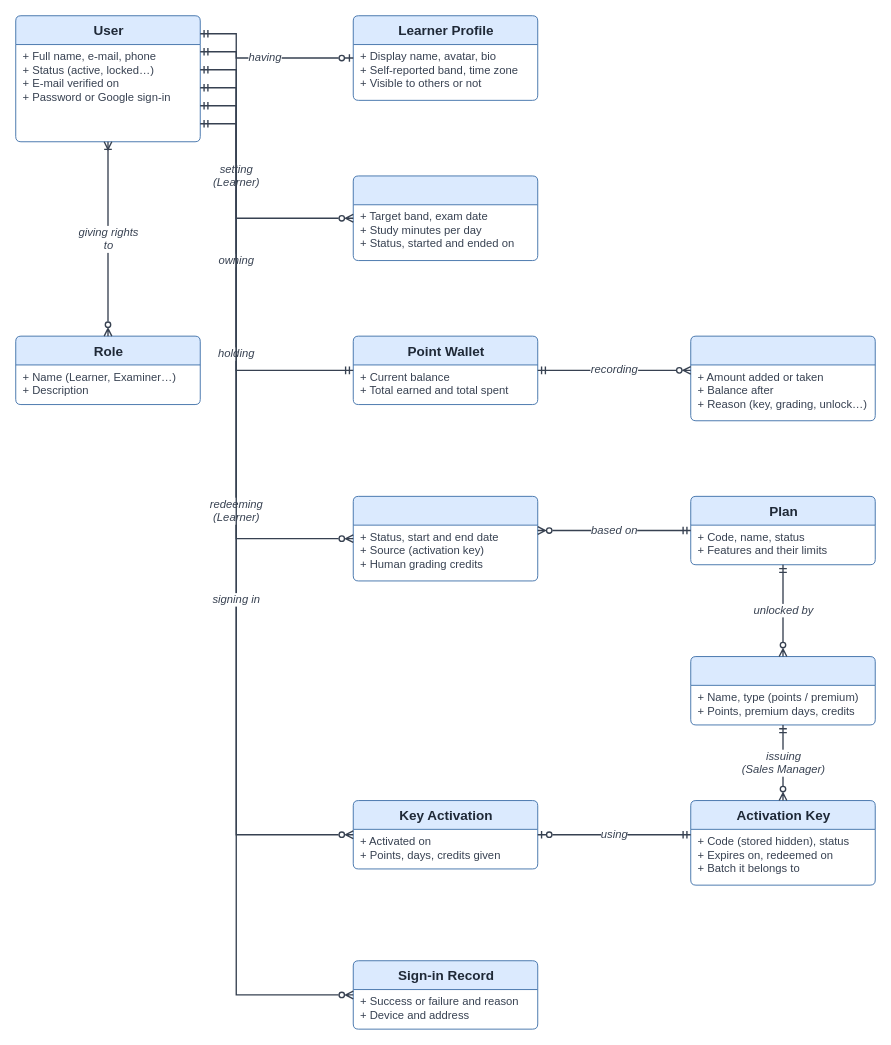
This 891x1045 diagram has some shape labels left out. Here are the shapes that lost their labels. From the top down, the box of each, then its label:
(352, 175, 538, 261): Learning Goal
(690, 335, 875, 421): Point Ledger Entry
(352, 495, 538, 581): Subscription
(690, 656, 875, 725): Key Product
